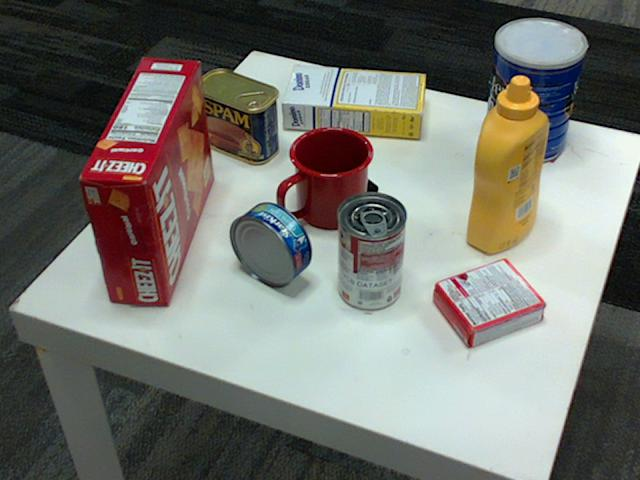cracker_box: (78, 55, 214, 302)
gelatin_box: (432, 259, 546, 348)
large_marker: (312, 139, 376, 197)
master_chef_can: (482, 19, 585, 164)
mug: (280, 124, 375, 226)
mustard_bottle: (465, 76, 548, 252)
potted_meat_can: (192, 70, 280, 163)
sugar_box: (283, 65, 428, 137)
tomato_soup_can: (337, 192, 407, 310)
tuna_fish_can: (230, 202, 312, 287)
